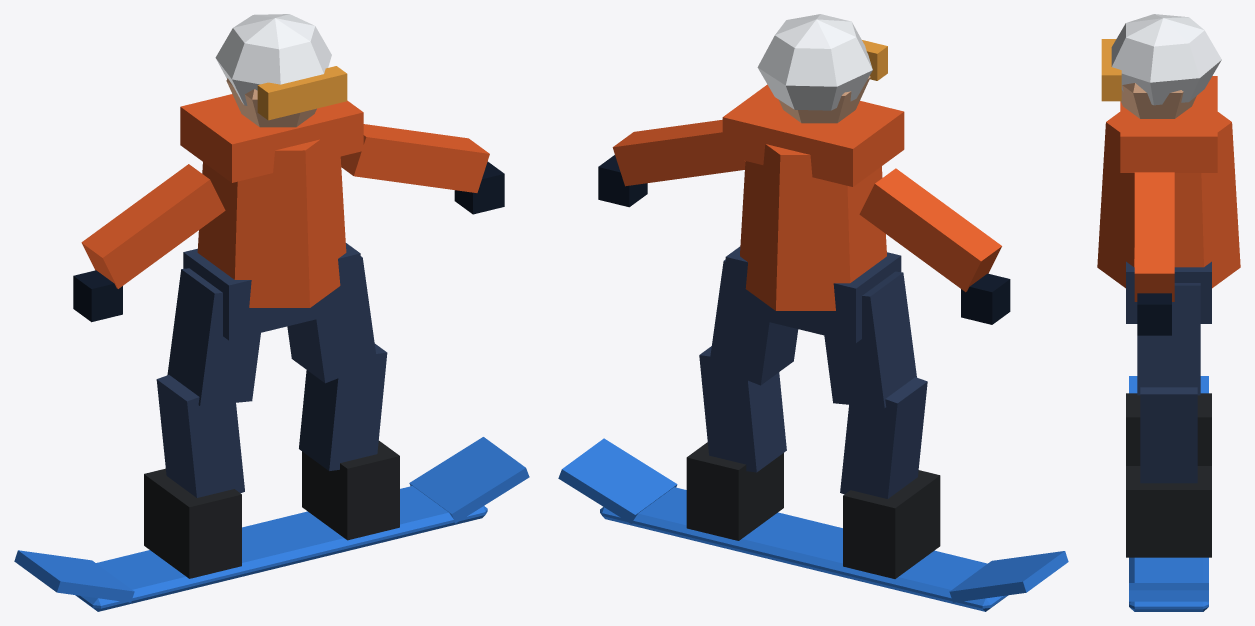
The model's file is boarder.glb.
The picture shows the model from 3 angles, left to right: view 1: azimuth 30°, elevation 25°; view 2: azimuth 150°, elevation 25°; view 3: azimuth 270°, elevation 25°; orthographic projection. The views are drawn at different scales.
Visible parts, largest first — view 1: boarder; view 2: boarder; view 3: boarder.
Boxes of the visible parts, x1,y1,x2,y2 form: boarder: (14,14,529,611); boarder: (558,14,1068,611); boarder: (1097,14,1240,611).
Size of the model in its own units: 1.8 by 1.94 by 0.5.
